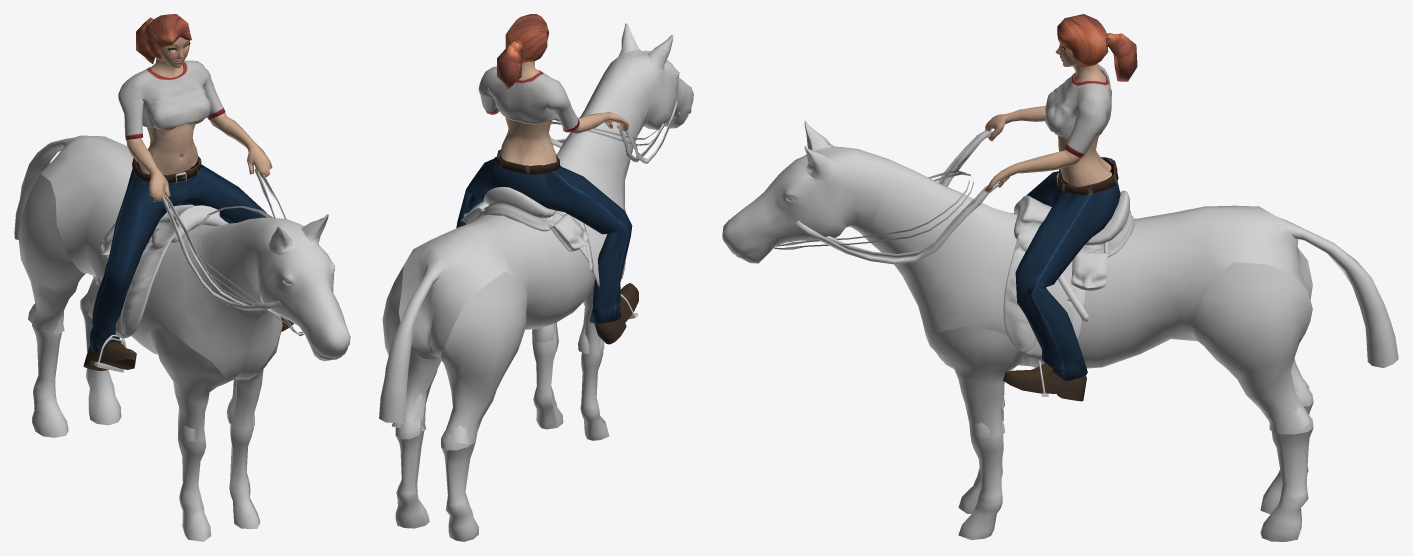
Rendered from SM_RedHorseRider.fbx.
The picture shows the model from 3 angles, left to right: view 1: azimuth 30°, elevation 25°; view 2: azimuth 150°, elevation 25°; view 3: azimuth 270°, elevation 25°; orthographic projection. The views are drawn at different scales.
Visible parts, largest first — view 1: Horse, Female, Saddle, Shirt, tireshape2, tireshape1; view 2: Horse, Female, tireshape2, Saddle, tireshape1, Shirt; view 3: Horse, Female, Saddle, tireshape2, Shirt, tireshape1.
Part boxes in pixels (<box>): Horse: <box>14,135,350,442</box>; Female: <box>83,14,293,370</box>; Saddle: <box>94,168,286,372</box>; Shirt: <box>118,60,225,140</box>; tireshape2: <box>28,279,121,437</box>; tireshape1: <box>178,379,260,541</box>; Horse: <box>379,23,693,450</box>; Female: <box>456,14,638,344</box>; tireshape2: <box>391,392,478,541</box>; Saddle: <box>461,101,677,319</box>; tireshape1: <box>532,307,609,440</box>; Shirt: <box>478,66,579,132</box>; Horse: <box>722,120,1398,437</box>; Female: <box>984,14,1137,401</box>; Saddle: <box>795,130,1134,396</box>; tireshape2: <box>1260,377,1313,541</box>; Shirt: <box>1045,65,1111,157</box>; tireshape1: <box>958,397,1005,539</box>.
Size of the model in its own units: 102 by 240 by 292.
